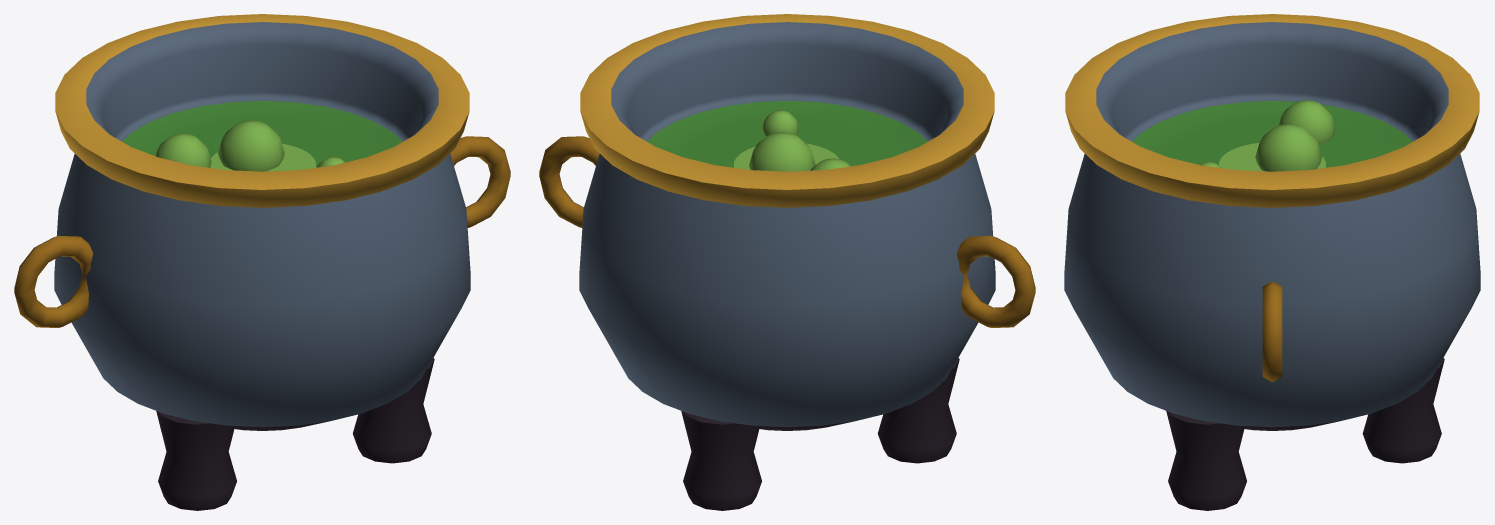
Rendered from Cauldron_11.glb.
3 views of the same model, side by side, from view 1: azimuth 30°, elevation 25°; view 2: azimuth 150°, elevation 25°; view 3: azimuth 270°, elevation 25° (orthographic).
Visible parts, largest first — view 1: Cauldron_11; view 2: Cauldron_11; view 3: Cauldron_11.
Part boxes in pixels (x1,y1,x2,y2): Cauldron_11: (14,14,510,510); Cauldron_11: (539,14,1035,510); Cauldron_11: (1064,14,1480,510).
Bounding box in the file's own units: 4.04 × 2.74 × 2.93.
